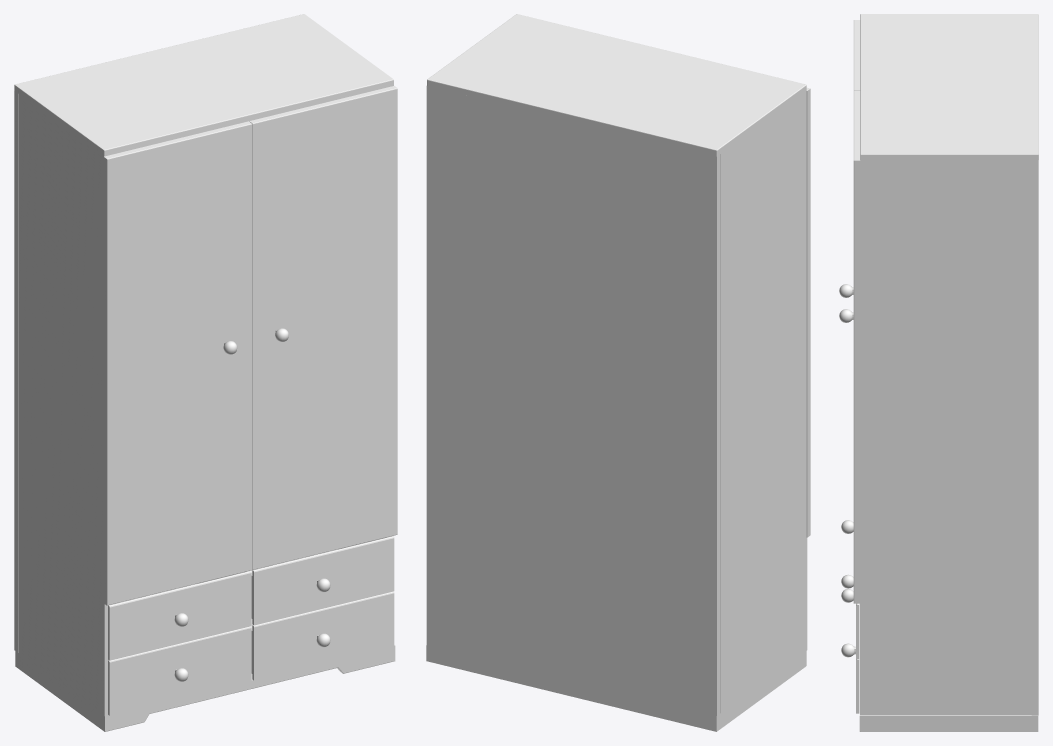
File: Wardrobe.fbx
3 renders of one model, left to right at view 1: azimuth 30°, elevation 25°; view 2: azimuth 150°, elevation 25°; view 3: azimuth 270°, elevation 25°, orthographic.
Parts seen in each view (by area): view 1: Wardrobe; view 2: Wardrobe; view 3: Wardrobe.
Boxes of the visible parts, x1,y1,x2,y2 form: Wardrobe: (14, 14, 397, 731); Wardrobe: (426, 14, 810, 731); Wardrobe: (839, 14, 1038, 731).
Size of the model in its own units: 954 by 1820 by 571.
1 material, 1 textured.
